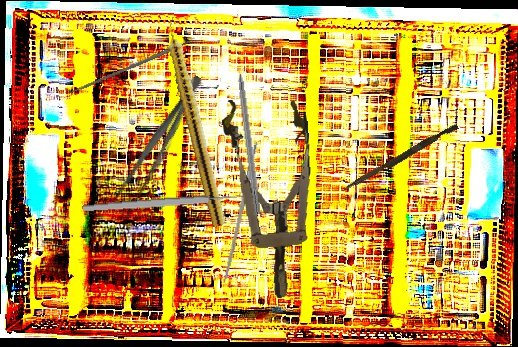Dressing Forceps: (107, 69, 210, 220)
Handpiece: (160, 15, 231, 228)
Hook Surgical: (234, 54, 263, 215)
Pusher: (341, 120, 459, 197)
Scalpel Handle: (69, 39, 191, 96), (221, 140, 261, 284)
Speculum: (220, 93, 323, 302)
Surgical Spoon: (82, 190, 263, 214)
